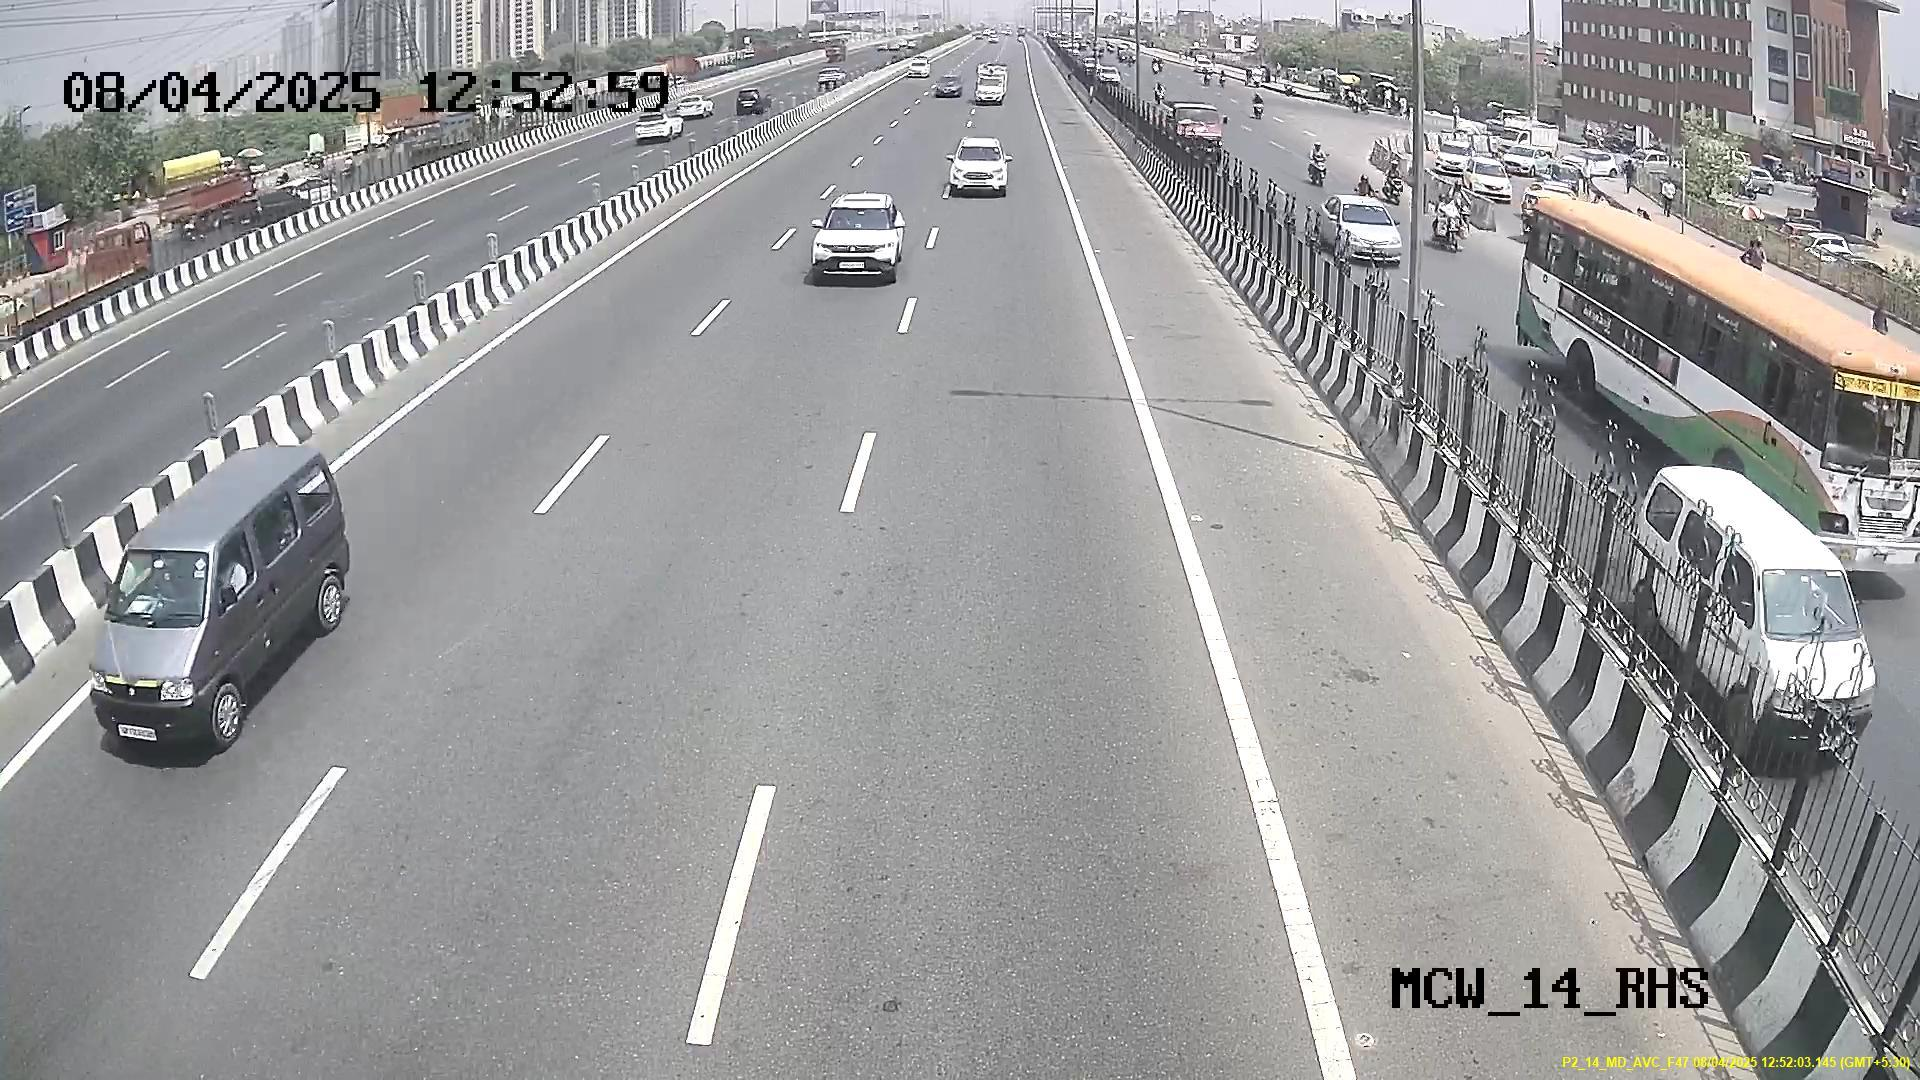car: (86, 493, 274, 756), (806, 194, 902, 278)
